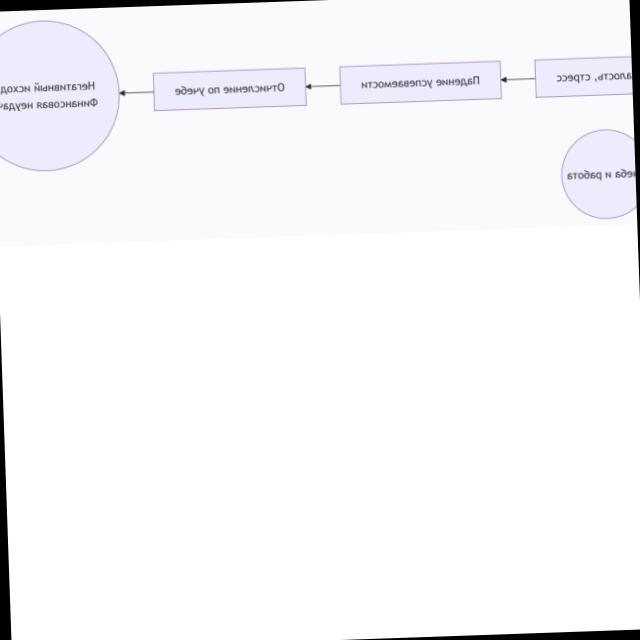arrow: (118, 91, 152, 95), (500, 78, 533, 82), (305, 85, 338, 89)
rectangle: (339, 61, 501, 104), (153, 67, 305, 111)
